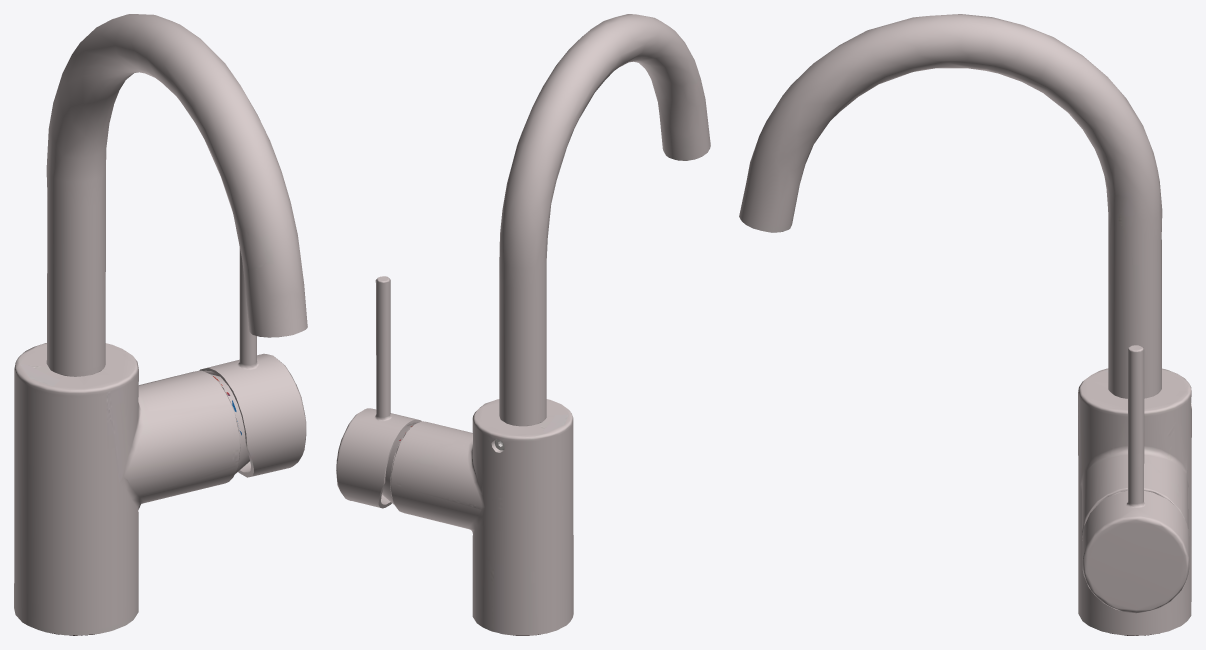
The model's file is sallsjon_bateria_z_uchwytem_z_boku_90602025.glb.
3 views of the same model, side by side, from view 1: azimuth 30°, elevation 25°; view 2: azimuth 150°, elevation 25°; view 3: azimuth 270°, elevation 25° (orthographic). The views are drawn at different scales.
Parts seen in each view (by area): view 1: sallsjon_bateria_z_uchwytem_z_boku_90602025; view 2: sallsjon_bateria_z_uchwytem_z_boku_90602025; view 3: sallsjon_bateria_z_uchwytem_z_boku_90602025.
Part boxes in pixels (x1,y1,x2,y2): sallsjon_bateria_z_uchwytem_z_boku_90602025: [14, 14, 307, 635]; sallsjon_bateria_z_uchwytem_z_boku_90602025: [336, 14, 710, 635]; sallsjon_bateria_z_uchwytem_z_boku_90602025: [739, 14, 1191, 635].
Bounding box in the file's own units: 0.1101 × 0.2675 × 0.1838.
Materials: 1 (1 with a texture image).
